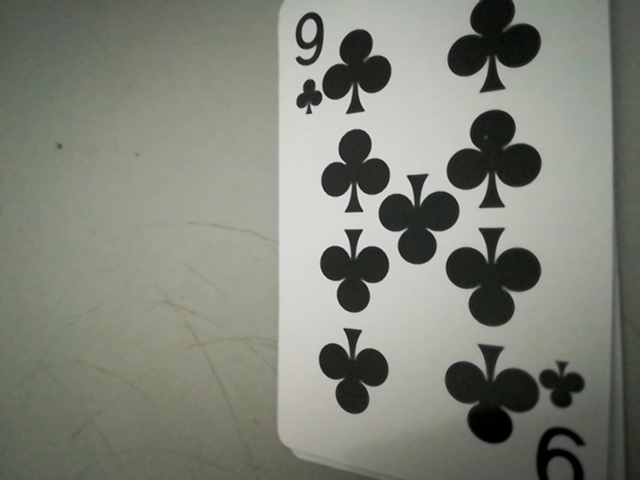mh 9: (523, 361, 597, 480), (285, 1, 338, 116)
